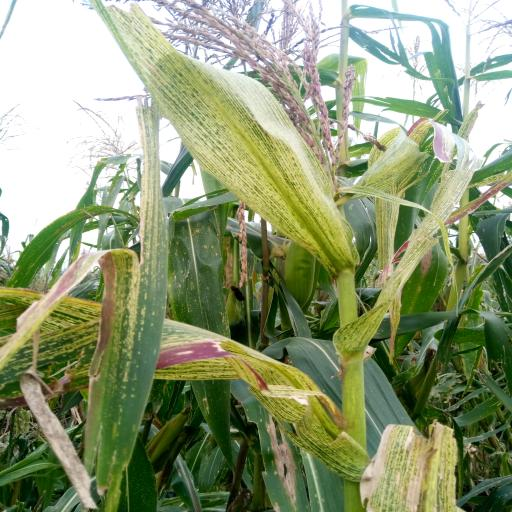Corn_Streak: (0, 277, 372, 470), (0, 179, 186, 511), (138, 56, 376, 274)
